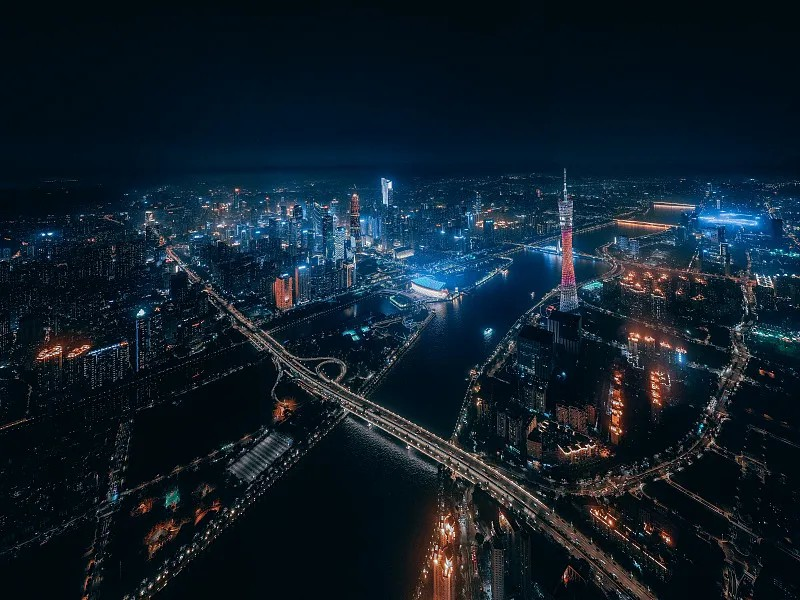Canton: (555, 167, 580, 313)
